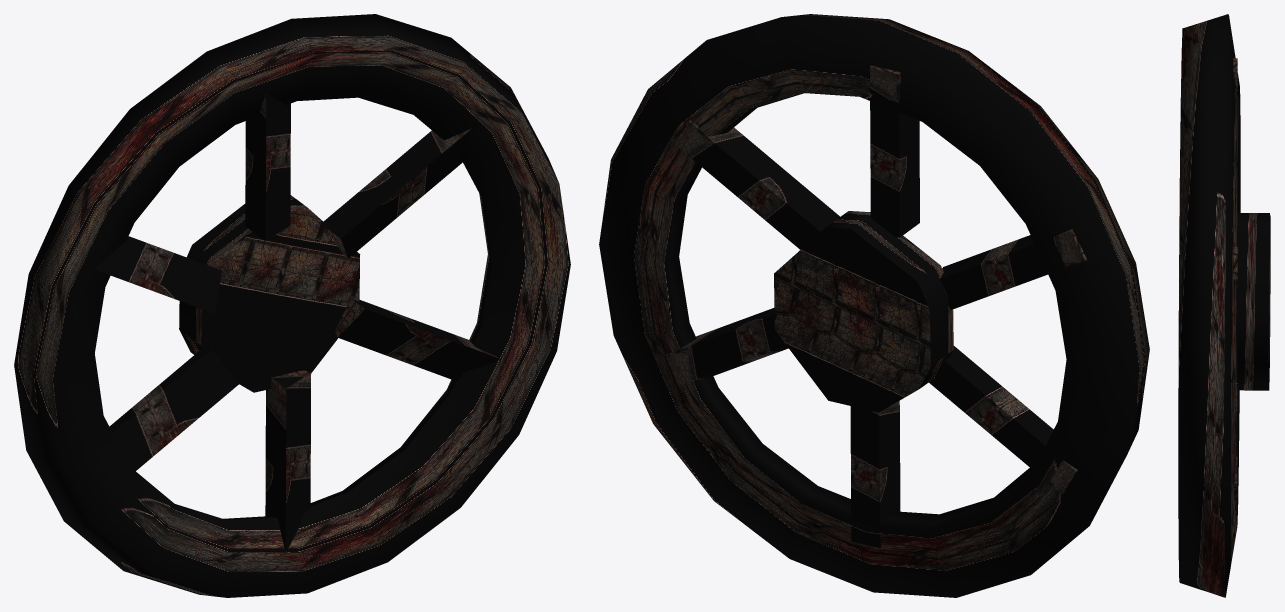
Rendered from s_wheel.fbx.
The picture shows the model from 3 angles, left to right: view 1: azimuth 30°, elevation 25°; view 2: azimuth 150°, elevation 25°; view 3: azimuth 270°, elevation 25°; orthographic projection. The views are drawn at different scales.
Parts seen in each view (by area): view 1: pTorus15, pCylinder69, pCylinder73, pCylinder66, pCylinder71, pCylinder70, pCylinder72, pCylinder65; view 2: pTorus15, pCylinder69, pCylinder66, pCylinder72, pCylinder73, pCylinder71, pCylinder65, pCylinder70; view 3: pTorus15, pCylinder69, pCylinder70, pCylinder66, pCylinder72.
Part boxes in pixels (box(x1,y1,x2,y2)): pTorus15: box(14, 14, 570, 597); pCylinder69: box(179, 195, 360, 392); pCylinder73: box(109, 348, 238, 491); pCylinder66: box(323, 128, 472, 258); pCylinder71: box(265, 370, 311, 552); pCylinder70: box(334, 298, 499, 381); pCylinder72: box(245, 93, 290, 240); pCylinder65: box(94, 236, 221, 313); pTorus15: box(599, 14, 1149, 597); pCylinder69: box(774, 211, 953, 412); pCylinder66: box(675, 120, 839, 249); pCylinder72: box(870, 65, 919, 237); pCylinder73: box(929, 346, 1077, 494); pCylinder71: box(850, 401, 900, 547); pCylinder65: box(940, 229, 1087, 309); pCylinder70: box(665, 308, 788, 384); pTorus15: box(1178, 14, 1240, 597); pCylinder69: box(1236, 212, 1270, 390); pCylinder70: box(1233, 352, 1237, 501); pCylinder66: box(1233, 247, 1237, 291); pCylinder72: box(1233, 58, 1237, 212).
Bounding box in the file's own units: 1.31 × 1.31 × 0.2054.
